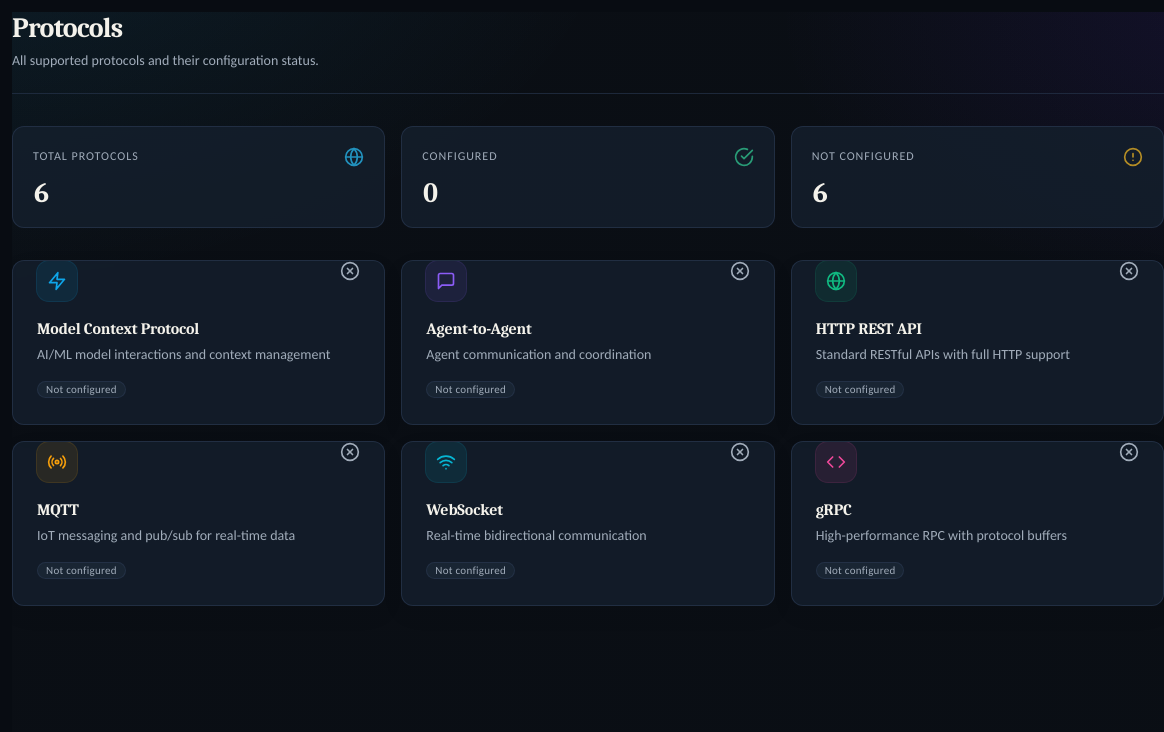
Test: Protocols page › toasts when copy fails
Click the heading "Model Context Protocol".
click(118, 329)  # box x1=37 y1=320 x2=199 y2=338
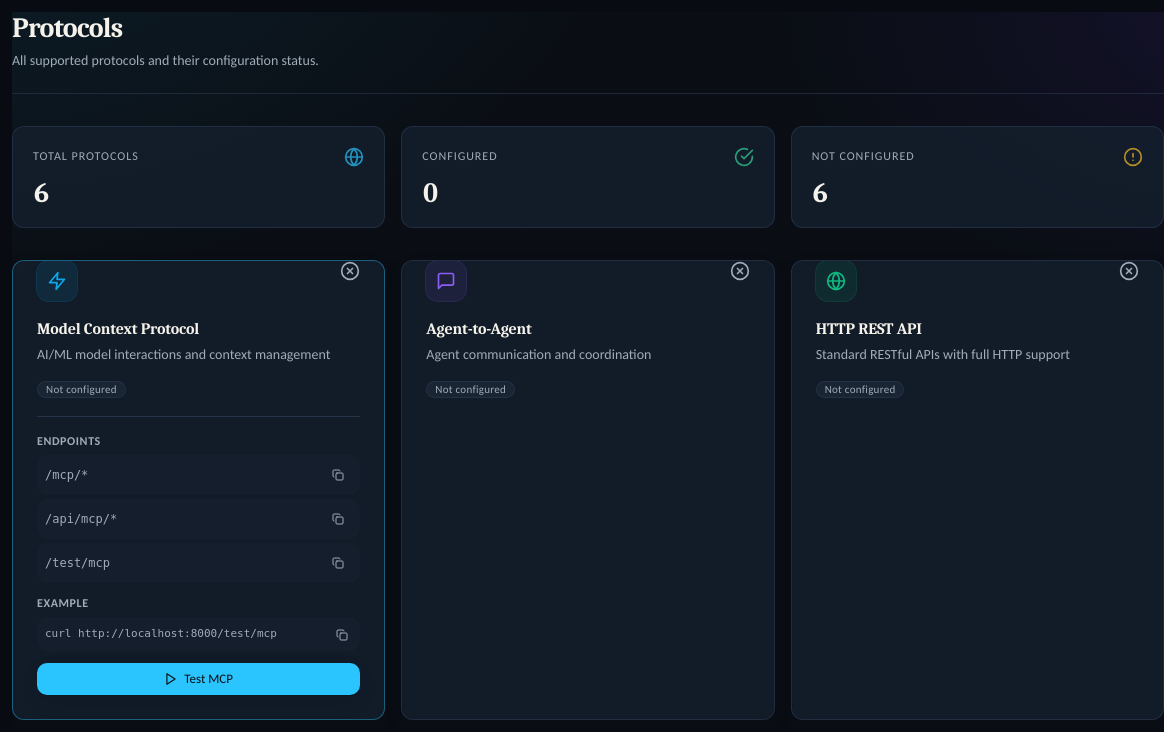
Click the button named "copy".
click(338, 475)  # box x1=324 y1=461 x2=352 y2=489
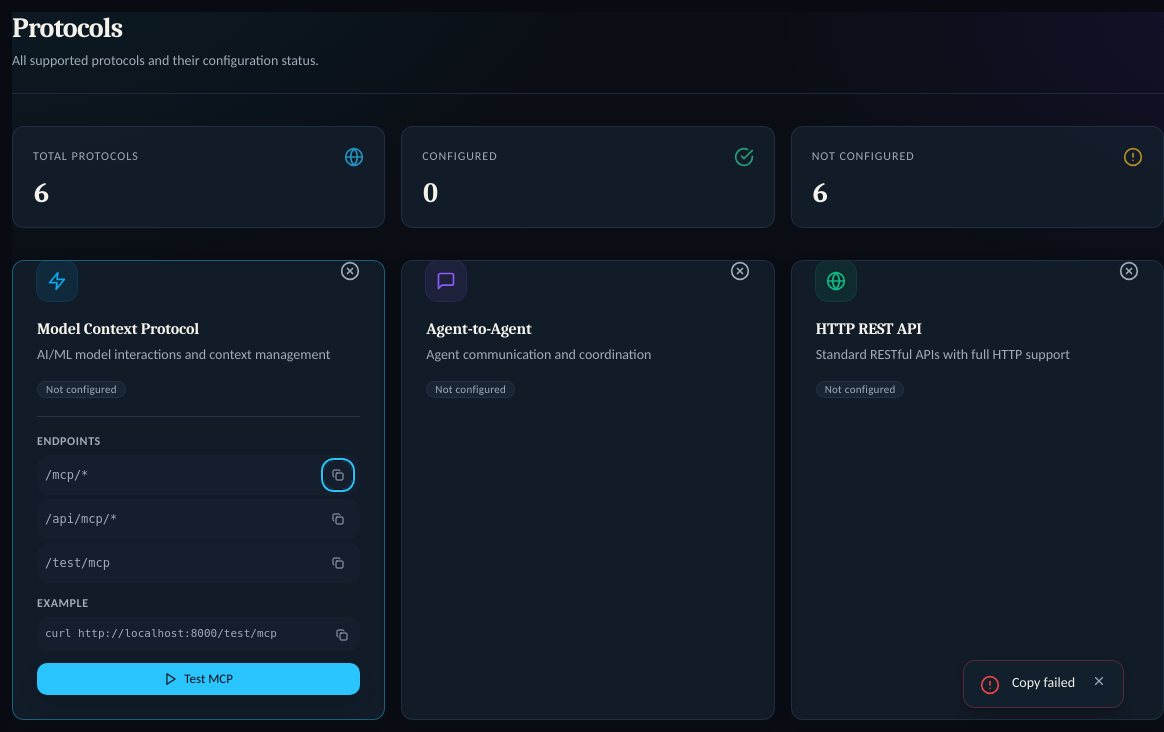
Now the text "Copy failed" is shown, box x1=1012 y1=673 x2=1075 y2=693
